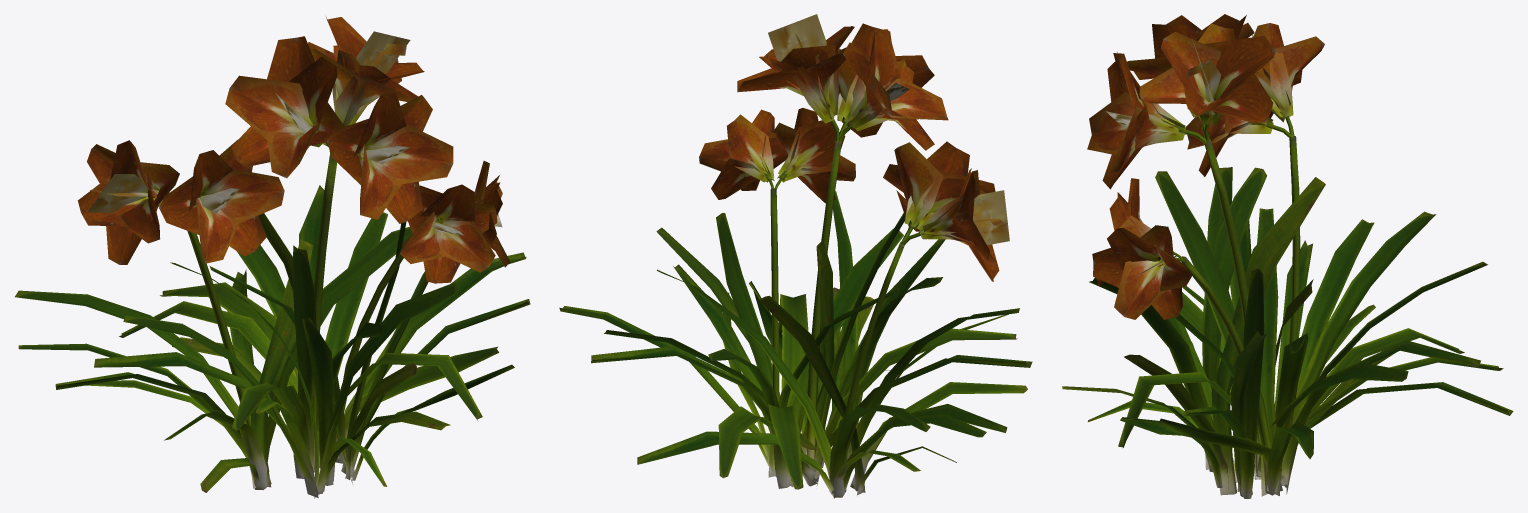
File: Amaryllis_bush_normal_peach.glb
3 views of the same model, side by side, from view 1: azimuth 30°, elevation 25°; view 2: azimuth 150°, elevation 25°; view 3: azimuth 270°, elevation 25° (orthographic). The views are drawn at different scales.
Parts seen in each view (by area): view 1: bush; view 2: bush; view 3: bush.
Boxes of the visible parts, x1=… form: bush: x1=15, y1=17, x2=530, y2=498; bush: x1=559, y1=14, x2=1032, y2=498; bush: x1=1062, y1=14, x2=1513, y2=498.
Bounding box in the file's own units: 2.94 × 2.74 × 2.41.
1 material, 1 textured.
